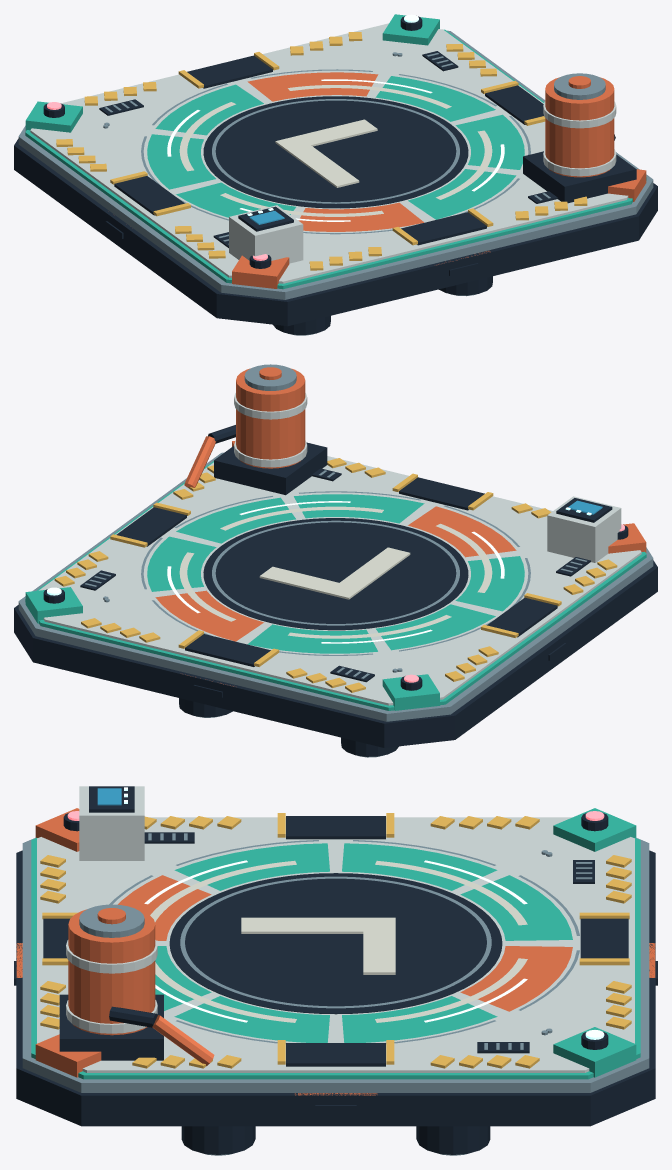
Rendered from StarterPad_MkII.glb.
3 views of the same model, one above another, from view 1: azimuth 30°, elevation 25°; view 2: azimuth 150°, elevation 25°; view 3: azimuth 270°, elevation 25° (orthographic). The views are drawn at different scales.
Visible parts, largest first — view 1: Deck, Chassis (×2), Touchdown plate (×2), Deck plating (×3), Fuel reservoir (×4), Docking apron (×2), Landing markings, Corner fender (×2), Deck edge, Hazard markings, Service console (×2), Attitude thrusters (+3 smaller); view 2: Deck, Chassis (×2), Touchdown plate (×2), Deck plating (×3), Fuel reservoir (×4), Docking apron (×2), Landing markings, Hazard markings, Deck edge, Service console (×2), Corner fender (×2), Service hatches (+2 smaller); view 3: Deck, Chassis (×2), Touchdown plate (×2), Deck plating (×3), Fuel reservoir (×4), Docking apron (×2), Landing markings, Hazard markings, Corner fender (×2), Deck edge, Service console (×2), Attitude thrusters (+4 smaller).
Part boxes in pixels (x1,y1,x2,y2): Deck: (30,23,628,283); Chassis (×2): (14,30,657,326); Touchdown plate (×2): (203,96,468,208); Deck plating (×3): (141,69,530,234); Fuel reservoir (×4): (523,73,636,203); Docking apron (×2): (110,52,545,245); Landing markings: (179,85,492,216); Corner fender (×2): (25,14,646,288); Deck edge: (25,29,646,289); Hazard markings: (56,32,587,270); Service console (×2): (229,205,303,263); Attitude thrusters: (273,276,492,334); Deck: (39,456,641,705); Chassis (×2): (14,452,657,747); Touchdown plate (×2): (203,518,468,630); Deck plating (×3): (141,491,530,655); Fuel reservoir (×4): (184,364,327,495); Docking apron (×2): (110,473,561,666); Landing markings: (179,506,492,638); Hazard markings: (54,458,617,692); Deck edge: (25,461,646,710); Service console (×2): (547,496,621,562); Corner fender (×2): (25,441,646,710); Service hatches: (80,468,590,682); Deck: (37,817,634,1072); Chassis (×2): (16,838,655,1126); Touchdown plate (×2): (169,873,502,1014); Deck plating (×3): (109,840,579,1043); Fuel reservoir (×4): (59,904,214,1065); Docking apron (×2): (42,813,629,1066); Landing markings: (150,860,527,1022); Hazard markings: (40,816,631,1068); Corner fender (×2): (35,808,636,1077); Deck edge: (31,837,640,1079); Service console (×2): (79,786,144,860); Attitude thrusters: (181,1126,490,1154).
Size of the model in its own units: 2.96 by 1.4 by 2.96.
